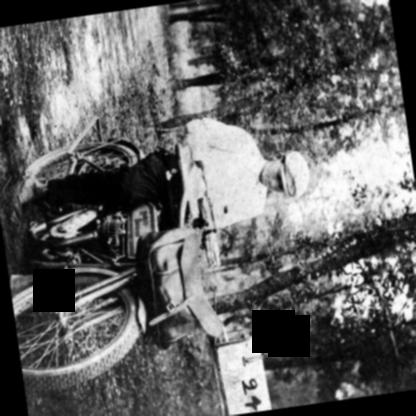handbag: (133, 226, 222, 351)
